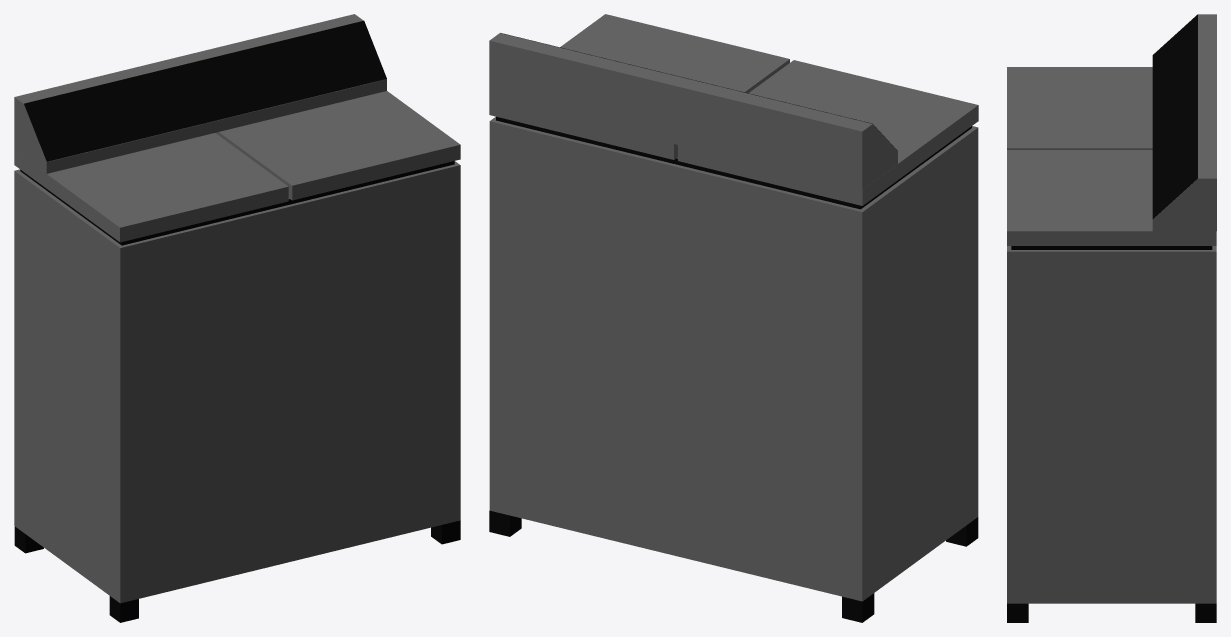
File: lavadora.obj
The picture shows the model from 3 angles, left to right: view 1: azimuth 30°, elevation 25°; view 2: azimuth 150°, elevation 25°; view 3: azimuth 270°, elevation 25°; orthographic projection. The views are drawn at different scales.
Visible parts, largest first — view 1: Object01, Object002; view 2: Object01, Object002; view 3: Object01, Object002.
Boxes of the visible parts, bbox=[...] form: Object01: bbox=[14, 14, 460, 603]; Object002: bbox=[14, 20, 460, 622]; Object01: bbox=[489, 14, 978, 601]; Object002: bbox=[489, 33, 978, 622]; Object01: bbox=[1007, 14, 1216, 603]; Object002: bbox=[1007, 14, 1216, 622].
Size of the model in its own units: 91.04 by 115 by 49.04.
2 materials, 2 textured.
